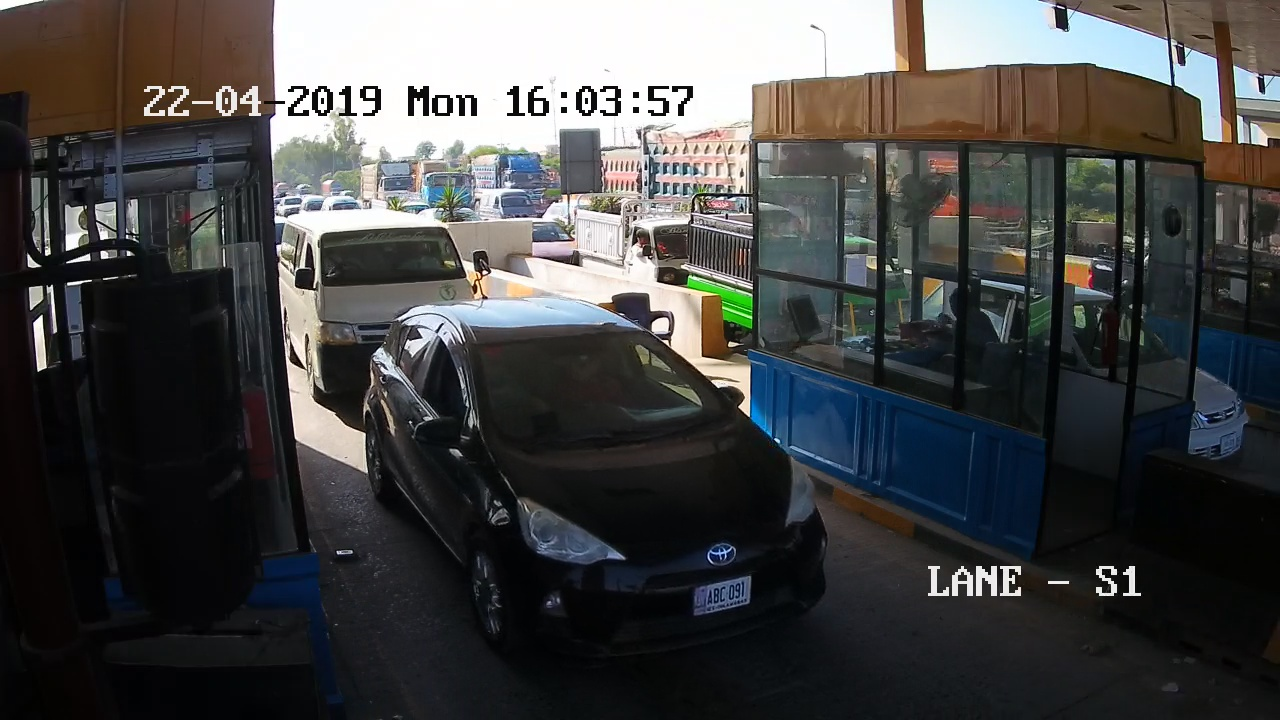Number Plate (Car): (693, 580, 754, 612)
